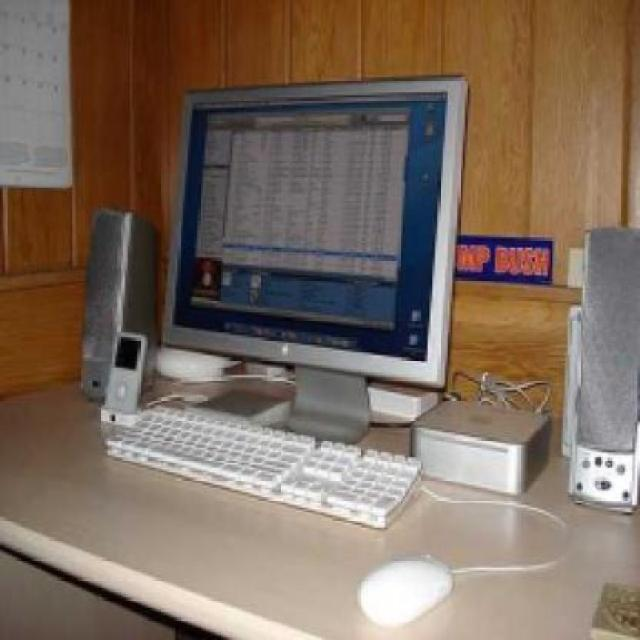mause: (348, 550, 468, 638)
